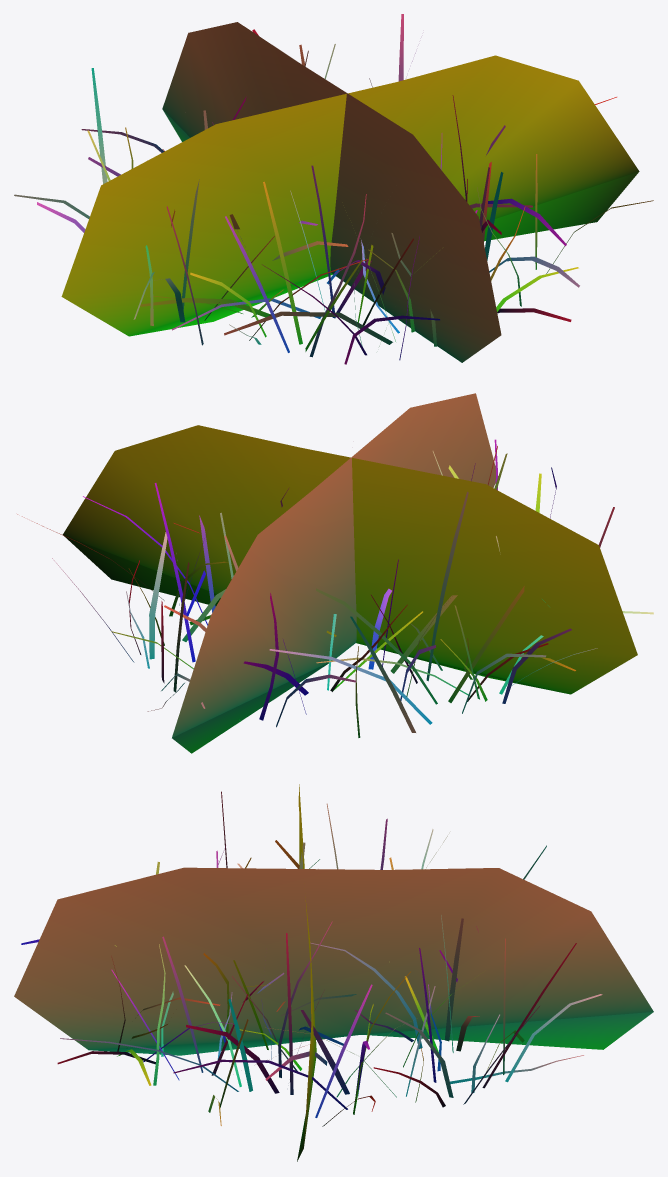
Rendered from Wild_Grass_vlkhcbxia_High_vlkhcbxia_VarB_LOD2.fbx.
3 views of the same model, one above another, from view 1: azimuth 30°, elevation 25°; view 2: azimuth 150°, elevation 25°; view 3: azimuth 270°, elevation 25° (orthographic). The views are drawn at different scales.
Visible parts, largest first — view 1: _n6k5_VarB_LOD3; view 2: _n6k5_VarB_LOD3; view 3: _n6k5_VarB_LOD3.
Part boxes in pixels (x1,y1,x2,y2): _n6k5_VarB_LOD3: [14, 14, 653, 364]; _n6k5_VarB_LOD3: [17, 393, 653, 753]; _n6k5_VarB_LOD3: [14, 784, 653, 1161].
Bounding box in the file's own units: 55.29 × 17.65 × 54.04.
